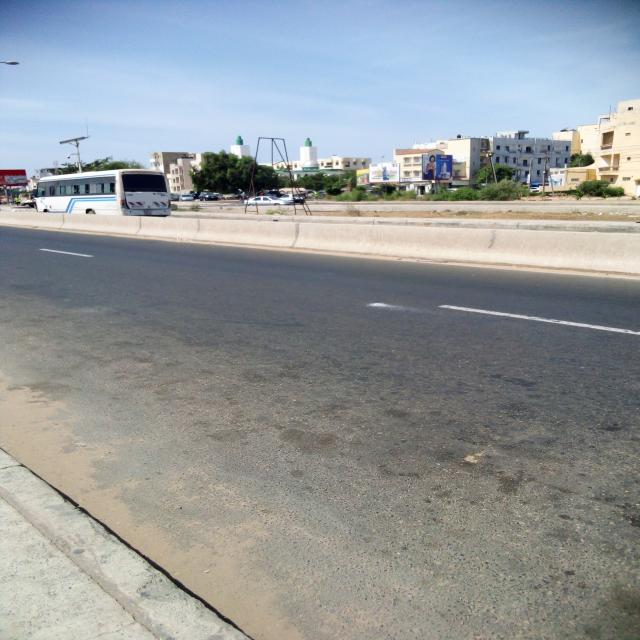bus tata: (34, 170, 173, 219)
particulier: (246, 197, 296, 206), (281, 195, 306, 206), (199, 194, 221, 202), (181, 195, 196, 202)
